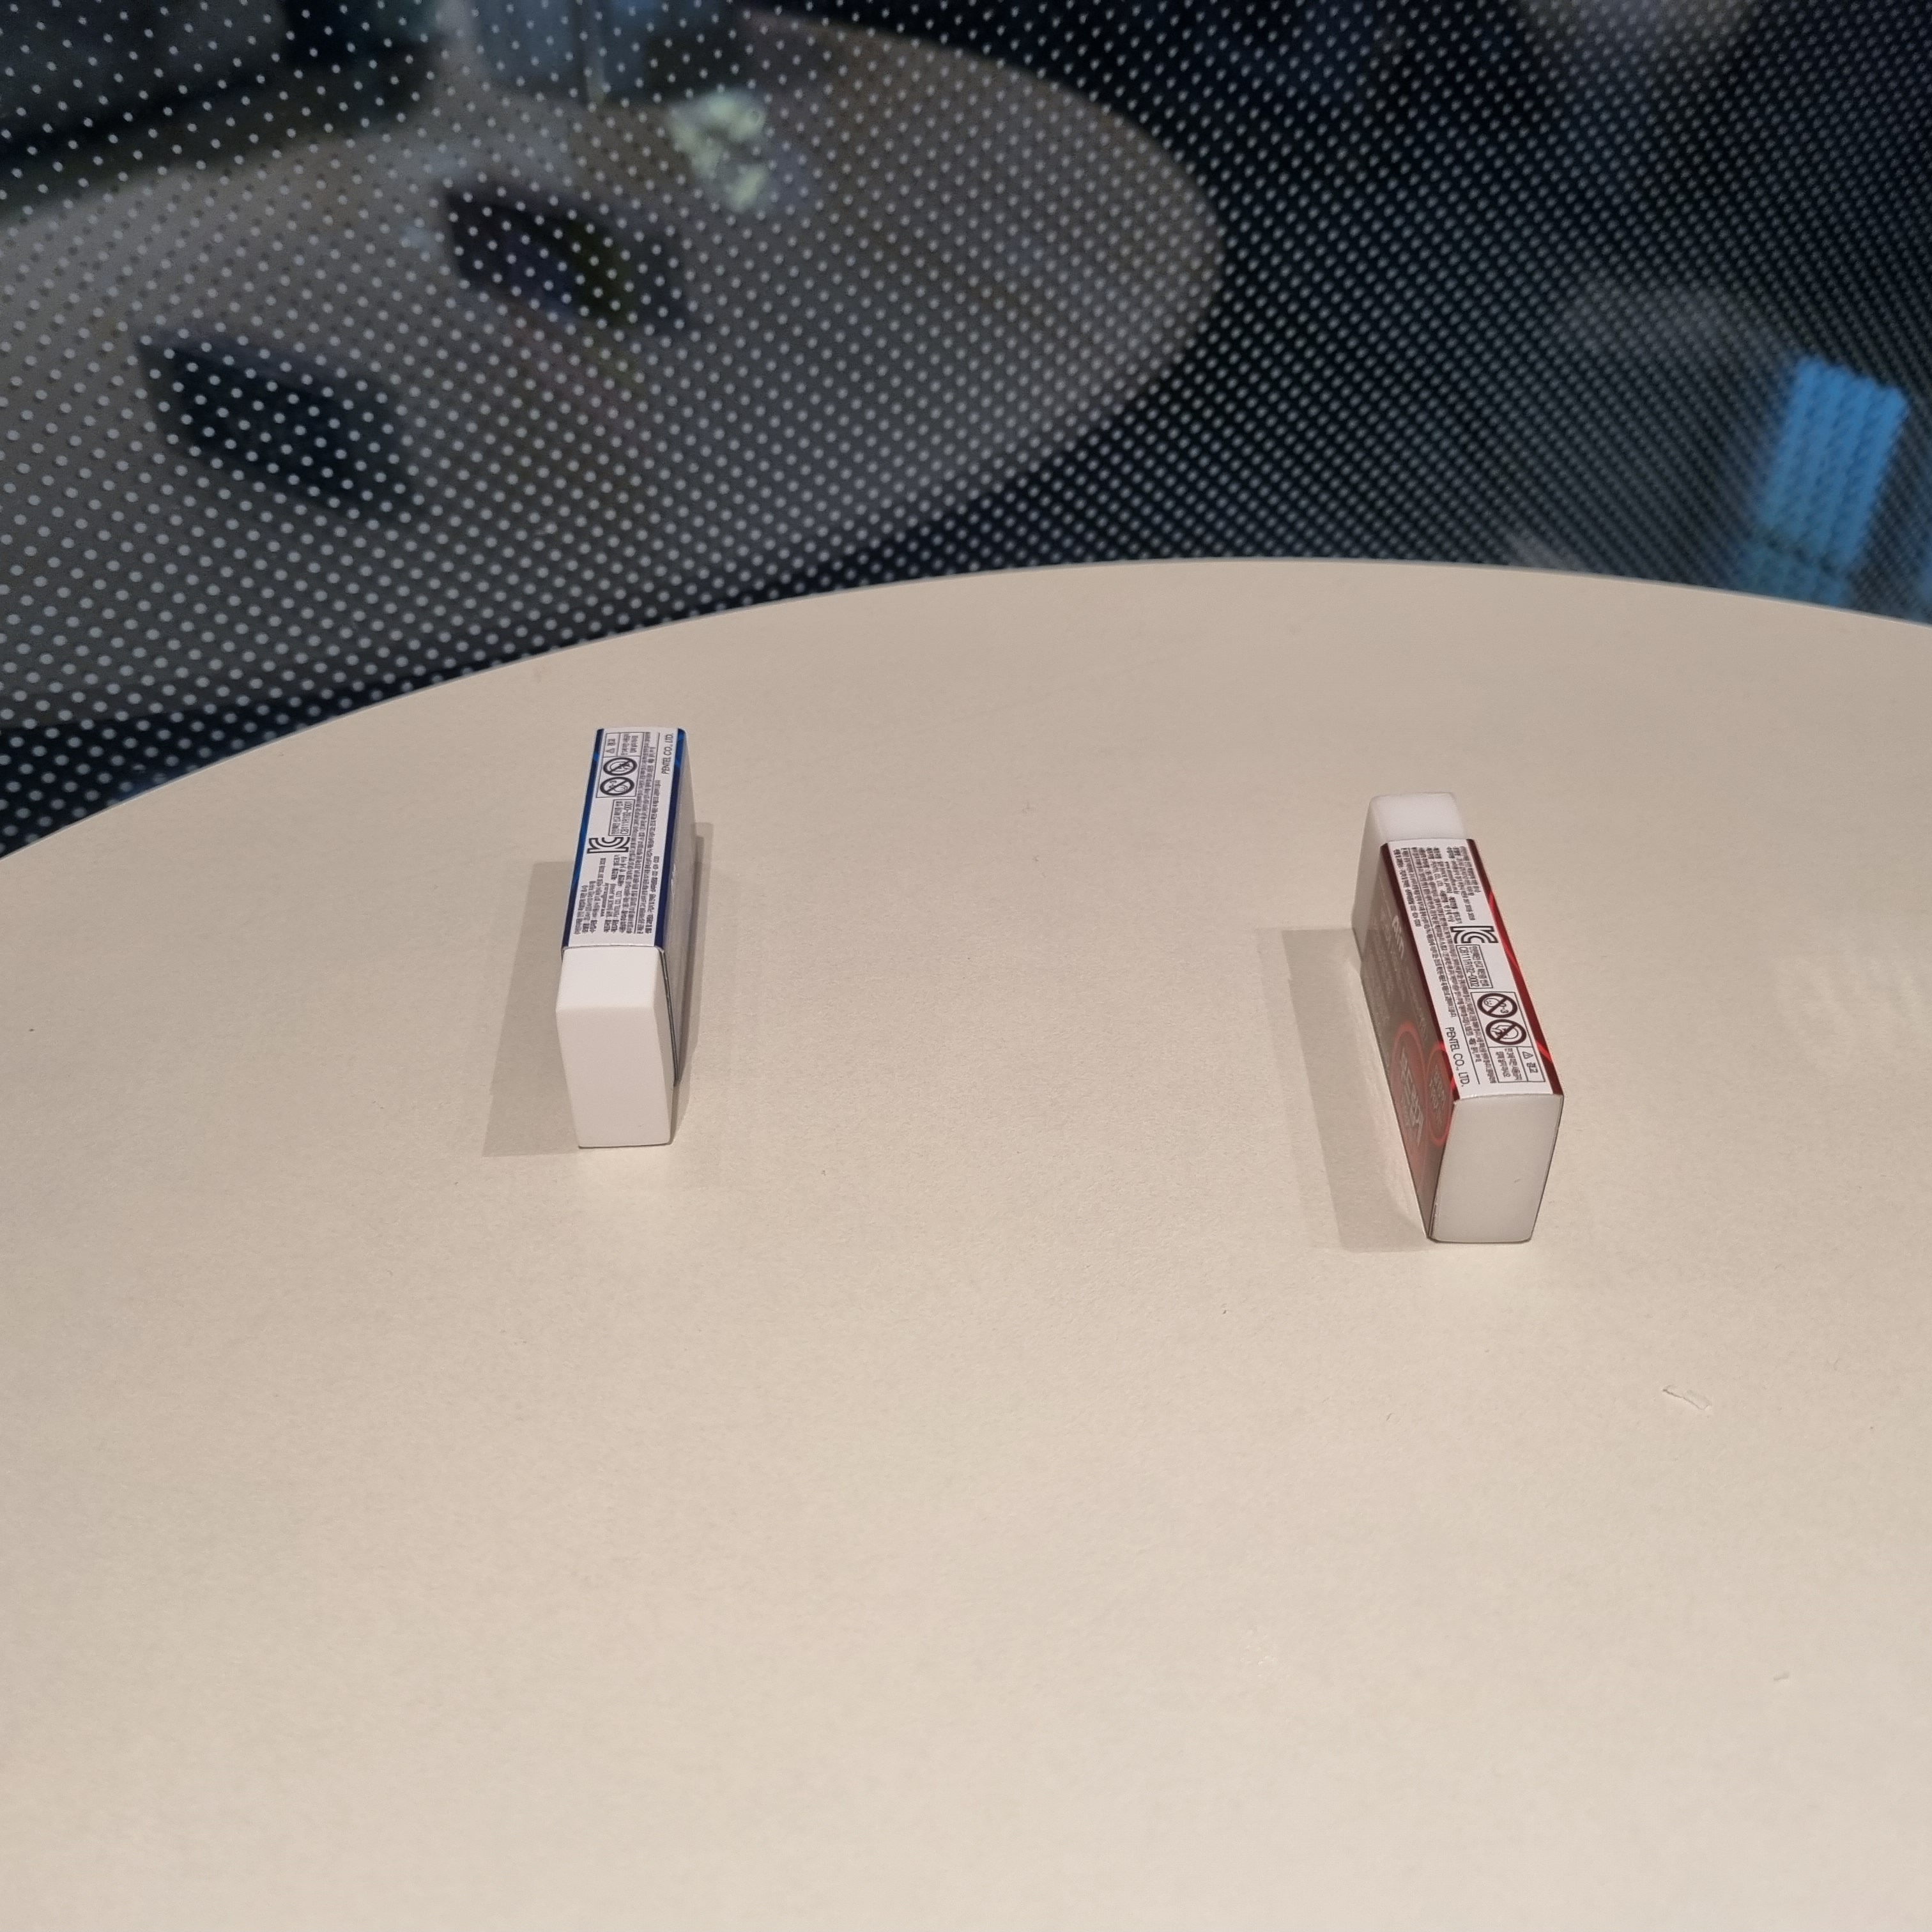blue: (547, 690, 704, 1161)
red: (1323, 771, 1605, 1276)
